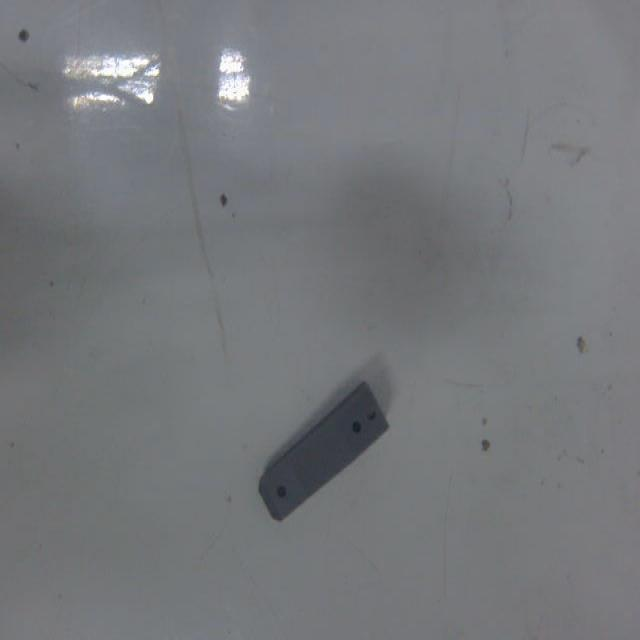grey: (257, 378, 393, 522)
head: (274, 480, 289, 502)
